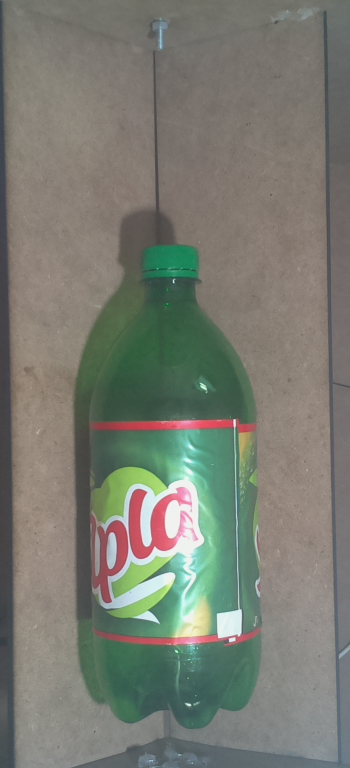Bouteille_1L: (70, 236, 270, 732)
